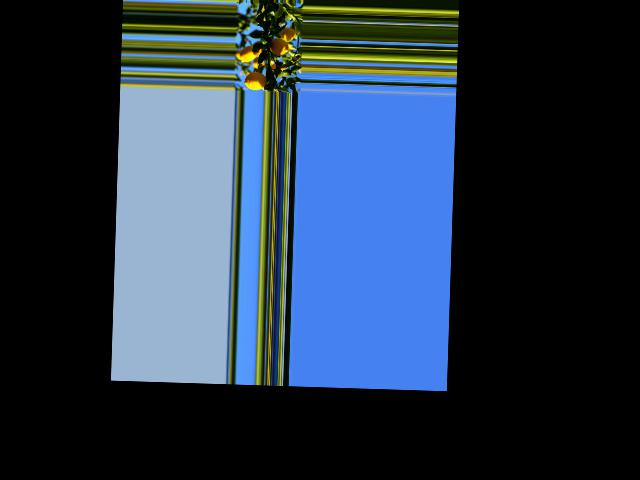lemon: (241, 70, 269, 91)
